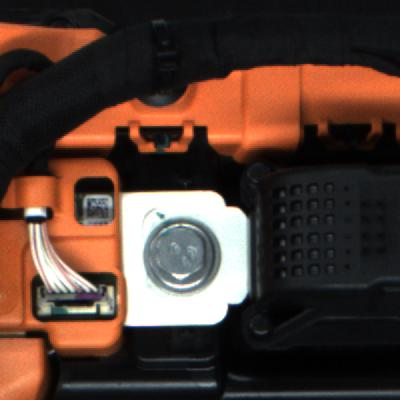nut_b: (134, 204, 234, 295)
